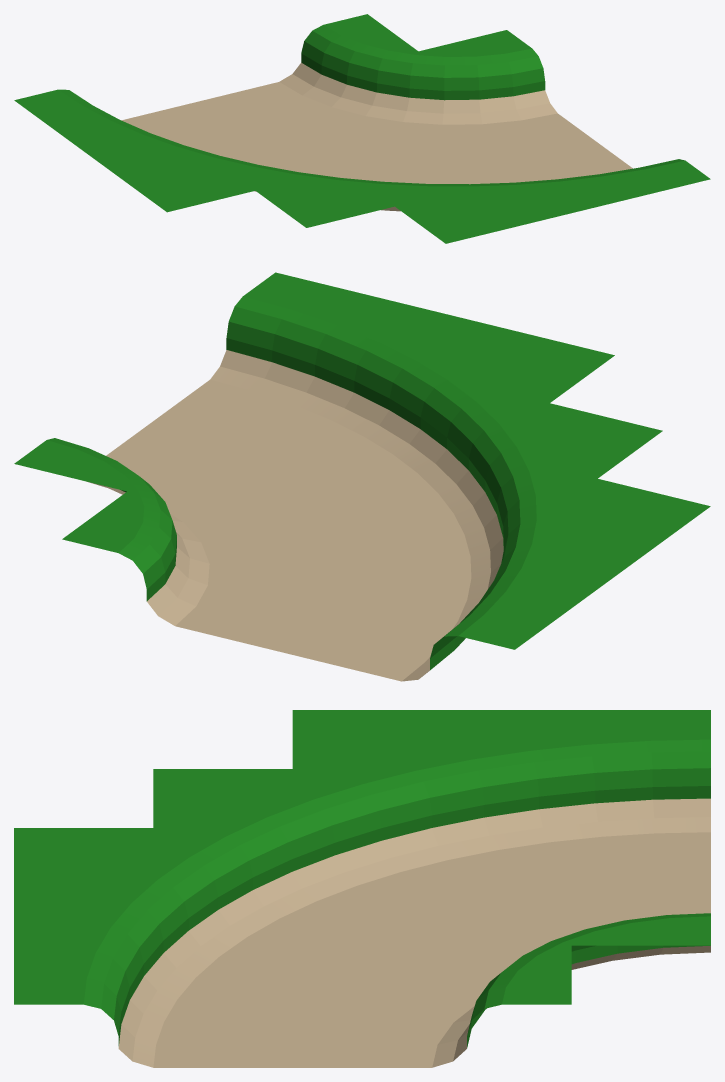
File: Track_Standard_Curve_Double_5x5.obj
3 renders of one model, top to bottom at view 1: azimuth 30°, elevation 25°; view 2: azimuth 150°, elevation 25°; view 3: azimuth 270°, elevation 25°, orthographic. The views are drawn at different scales.
Visible parts, largest first — view 1: Grass, Dirt; view 2: Dirt, Grass; view 3: Grass, Dirt.
Boxes of the visible parts, x1,y1,x2,y2 form: Grass: [14, 14, 710, 243]; Dirt: [121, 62, 632, 211]; Dirt: [87, 350, 503, 681]; Grass: [14, 272, 710, 670]; Grass: [14, 710, 710, 1047]; Dirt: [118, 798, 710, 1067].
Bounding box in the file's own units: 5 × 0.5 × 5.
